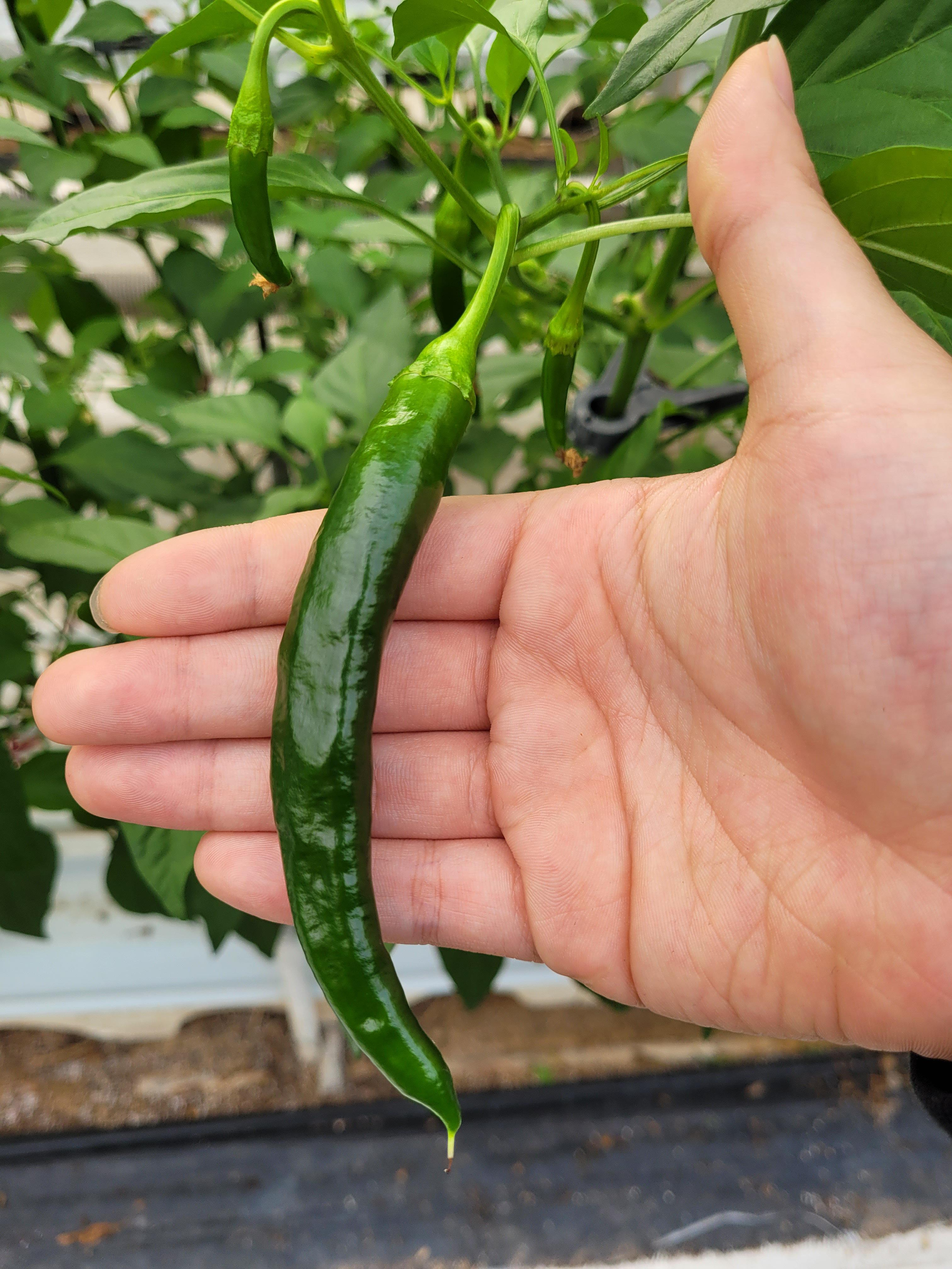Buah Cabai Sehat: (266, 321, 522, 1168)
